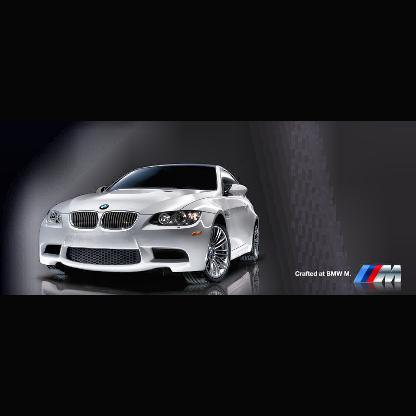BMW M3 Coupe 2012: (39, 164, 262, 286)
